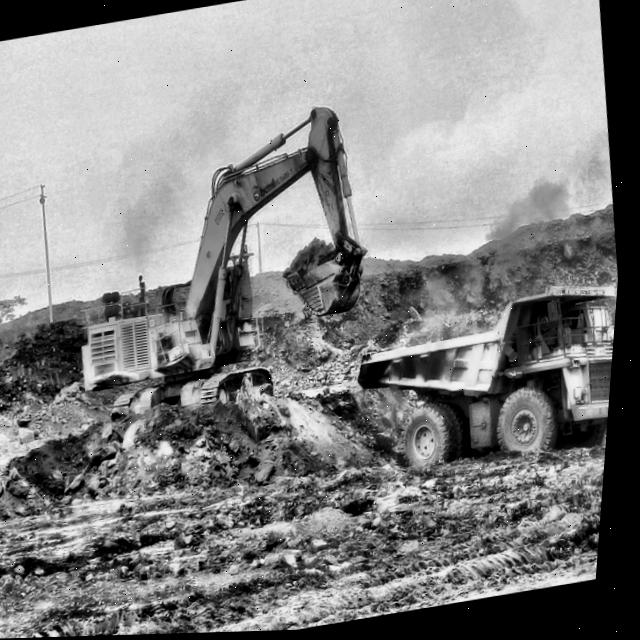dump_truck: (361, 288, 622, 468)
excavator: (87, 107, 373, 422)
